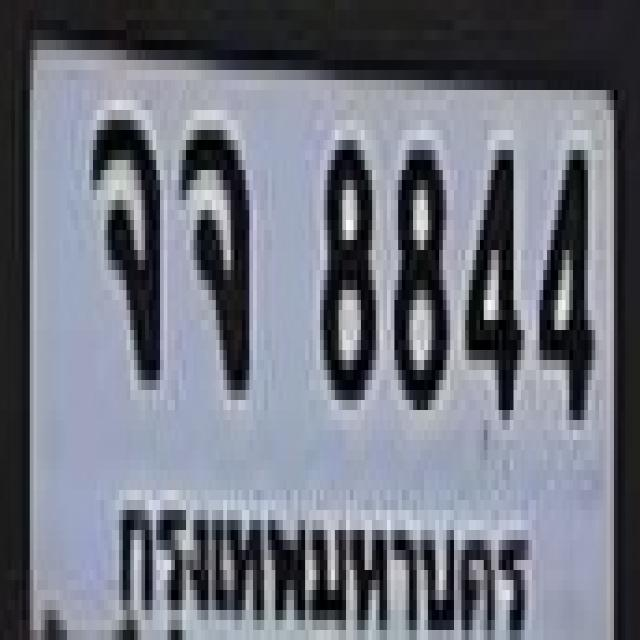4: (462, 140, 518, 410), (536, 140, 588, 410)
8: (390, 140, 442, 400), (320, 130, 372, 390)
A08: (178, 115, 246, 385), (90, 110, 156, 380)
BKK: (109, 476, 536, 640)
